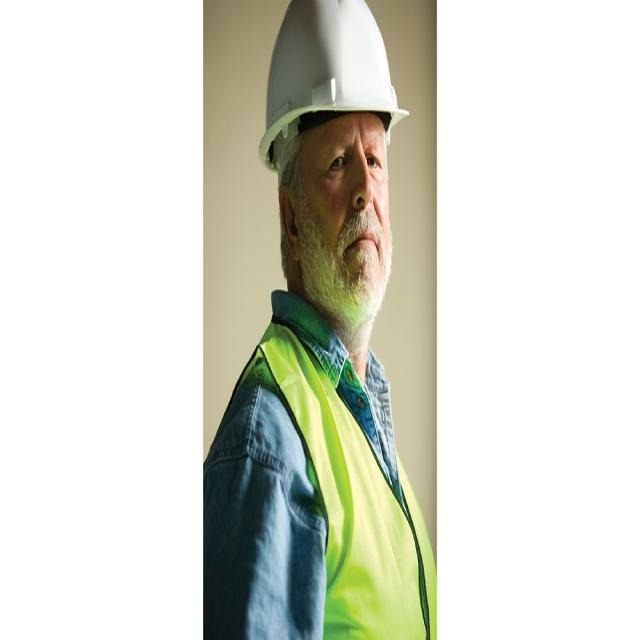helmet: (257, 0, 407, 133)
no-goggles: (293, 145, 393, 185)
vest: (255, 320, 433, 640)
